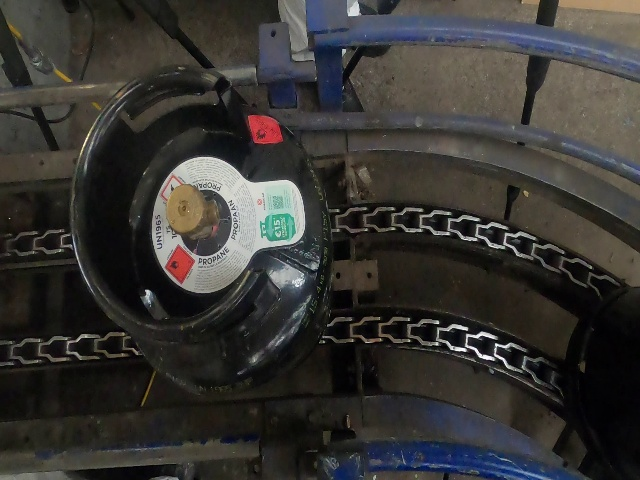gas_bottle: (0, 0, 638, 477)
